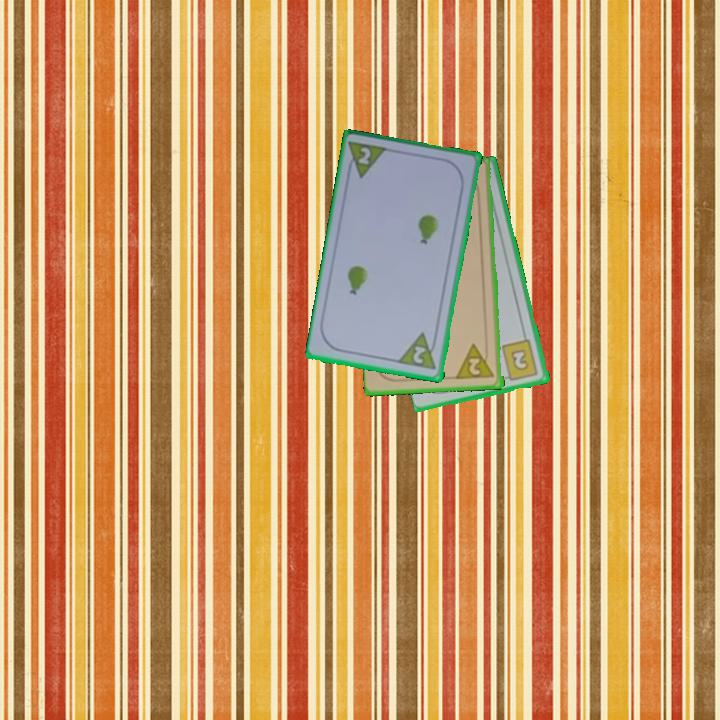2b: (498, 337, 541, 384)
2p: (343, 138, 391, 181), (396, 329, 440, 373), (454, 340, 498, 382)
